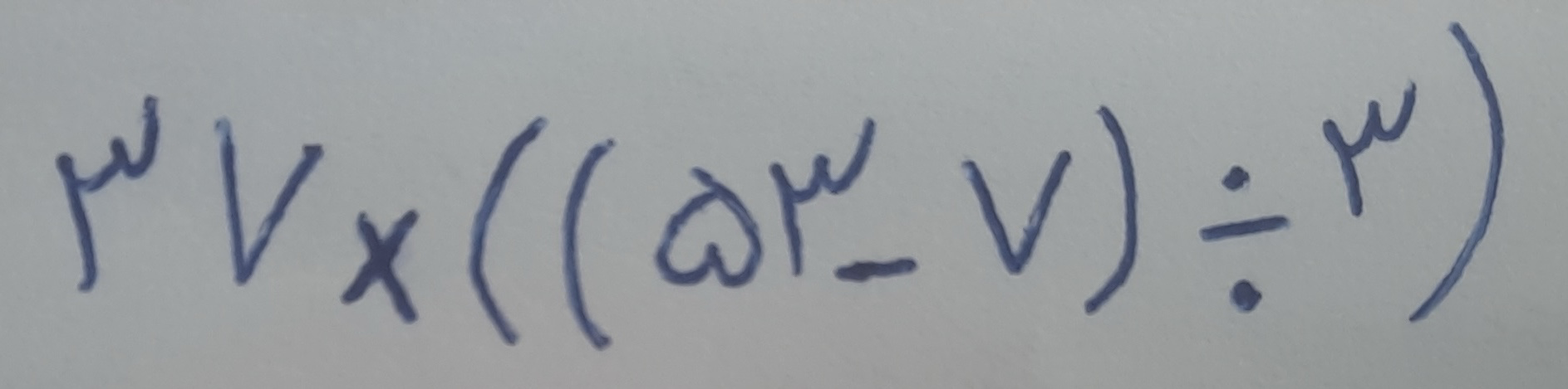character: (1405, 17, 1509, 329), (52, 90, 163, 294), (460, 111, 551, 349), (210, 113, 327, 286), (770, 111, 880, 281), (958, 145, 1077, 280), (555, 129, 623, 355), (652, 161, 768, 293), (1195, 162, 1293, 317), (1073, 103, 1142, 319), (1318, 79, 1420, 224), (338, 202, 424, 325), (830, 251, 922, 290)
